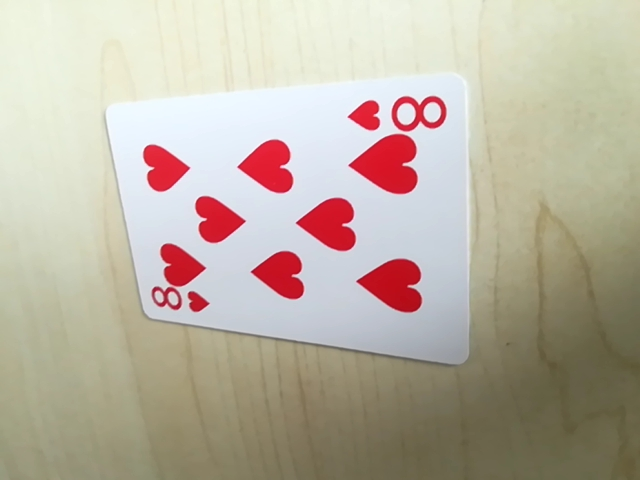hx 8: (348, 86, 454, 138), (147, 285, 210, 321)
